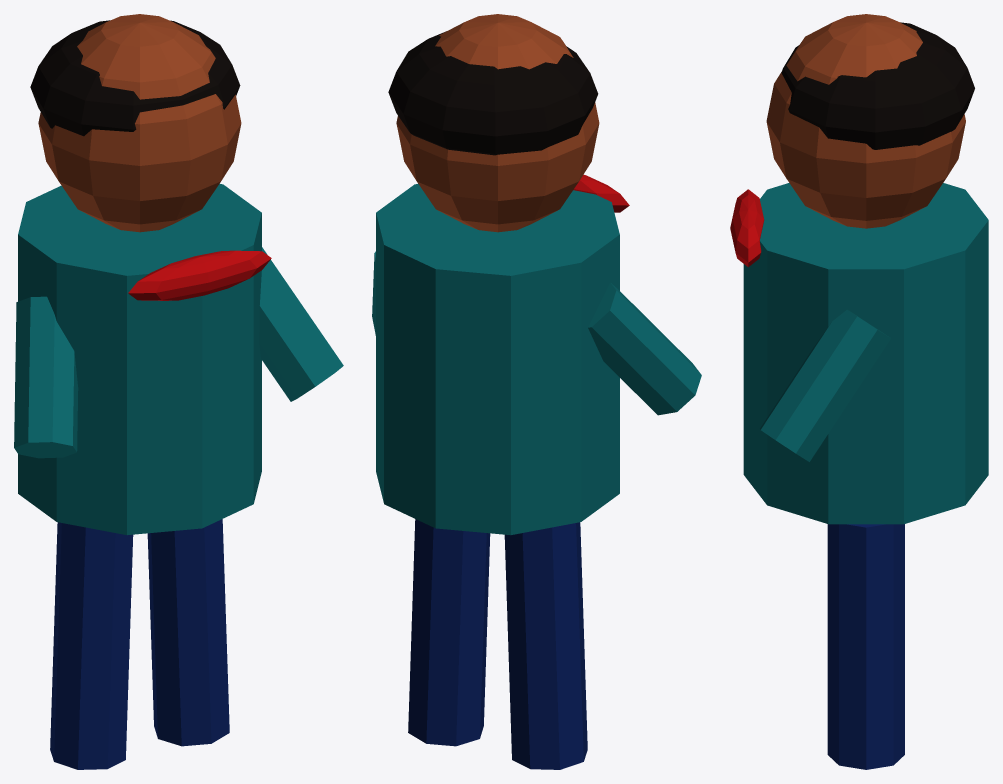
The model's file is persona_convivencia_1.obj.
3 views of the same model, side by side, from view 1: azimuth 30°, elevation 25°; view 2: azimuth 150°, elevation 25°; view 3: azimuth 270°, elevation 25° (orthographic).
Visible parts, largest first — view 1: persona_convivencia_1; view 2: persona_convivencia_1; view 3: persona_convivencia_1.
Part boxes in pixels (left/top/right/bottom): persona_convivencia_1: left=14, top=14, right=343, bottom=769; persona_convivencia_1: left=372, top=14, right=701, bottom=769; persona_convivencia_1: left=730, top=14, right=988, bottom=769.
Bounding box in the file's own units: 0.8092 × 1.72 × 0.57.
